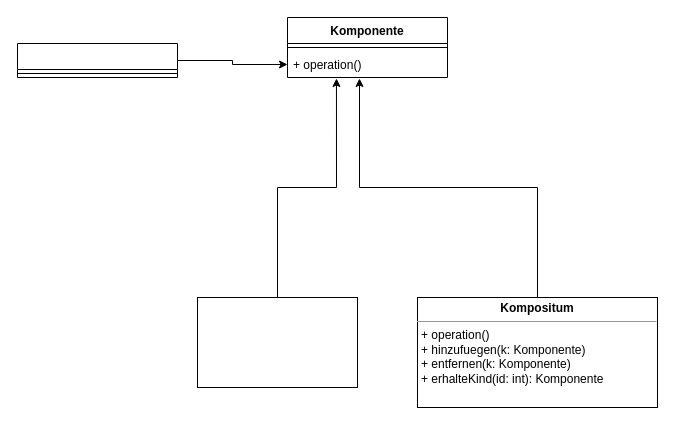
Image size: 675x425. Some labels were removed from this diagram. The shapes that lost their labels are listed below. From the top down, each one's box as (x1, y1, x2, y2) in pixels, then its label:
(16, 42, 178, 78): Client
(196, 296, 358, 388): Blatt + operation()
